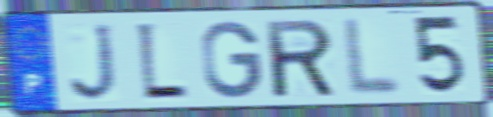5: (412, 13, 468, 98)
G: (199, 18, 264, 101)
J: (67, 21, 122, 105)
L: (342, 15, 403, 99), (133, 19, 191, 105)
R: (262, 16, 339, 101)
